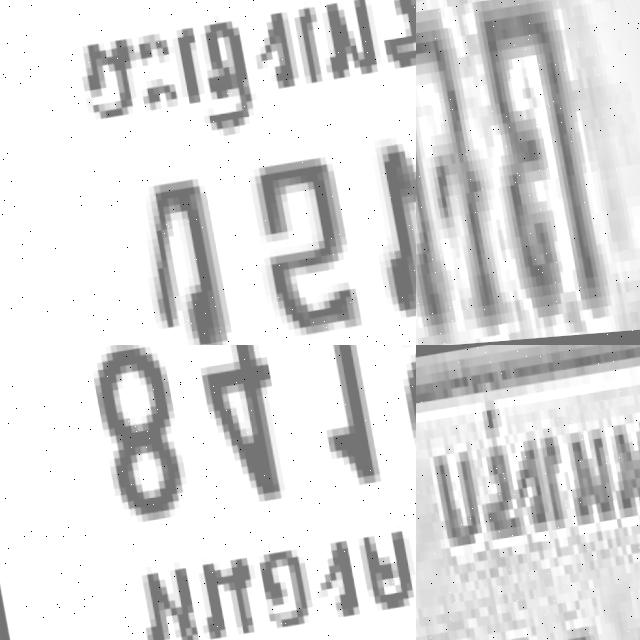license-plate: (0, 0, 416, 345), (0, 345, 416, 640), (416, 0, 640, 345), (416, 345, 640, 640)
